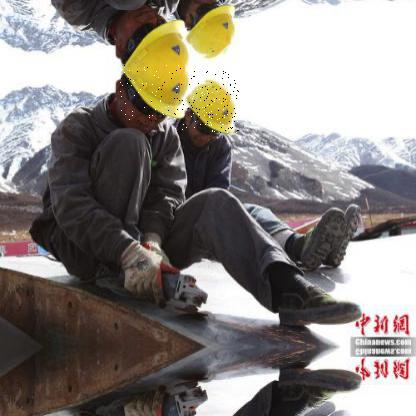safetyhelmet: (120, 65, 193, 123), (175, 71, 240, 135)
